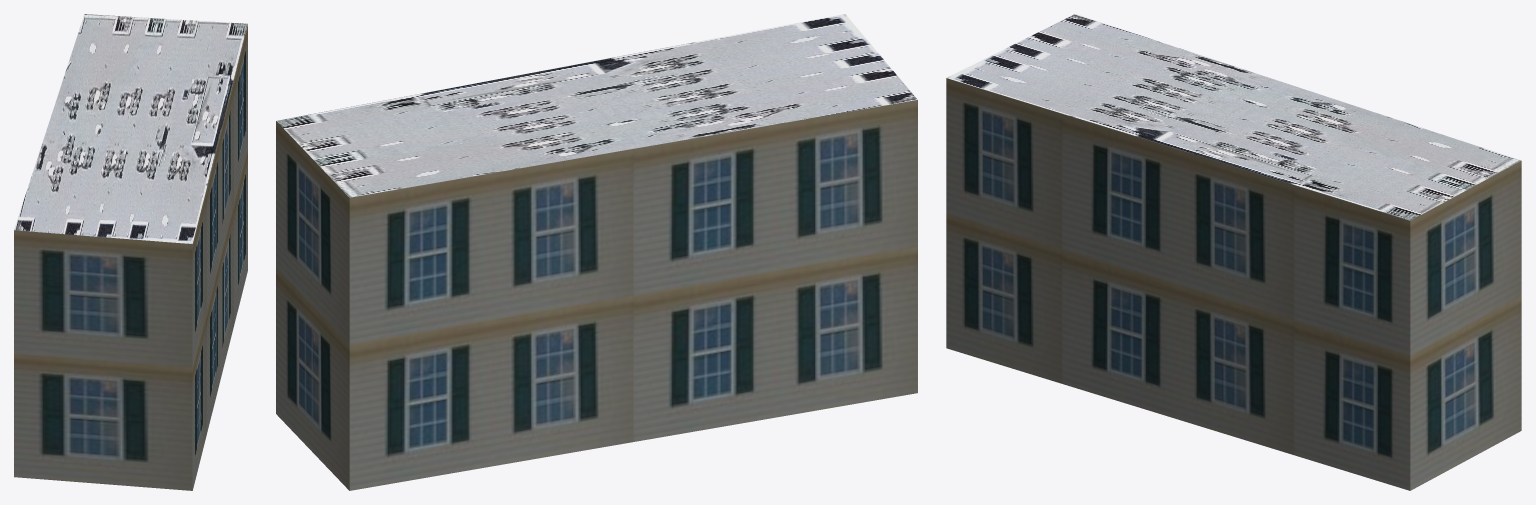
File: ResTex__967.fbx
3 views of the same model, side by side, from view 1: azimuth 30°, elevation 25°; view 2: azimuth 150°, elevation 25°; view 3: azimuth 270°, elevation 25° (orthographic). The views are drawn at different scales.
Parts seen in each view (by area): view 1: CityEngineMaterial_7_m, CityEngineMaterial_m; view 2: CityEngineMaterial_7_m, CityEngineMaterial_m; view 3: CityEngineMaterial_7_m, CityEngineMaterial_m.
Boxes of the visible parts, box(x1,y1,x2,y2) form: CityEngineMaterial_7_m: box(14, 24, 247, 490); CityEngineMaterial_m: box(14, 14, 247, 243); CityEngineMaterial_7_m: box(276, 100, 917, 490); CityEngineMaterial_m: box(276, 14, 917, 197); CityEngineMaterial_7_m: box(946, 78, 1521, 490); CityEngineMaterial_m: box(947, 14, 1521, 220).
Bounding box in the file's own units: 9.85 × 6 × 11.58.
Materials: 2 (2 with a texture image).
